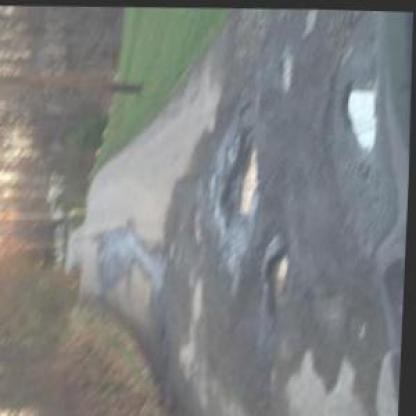pothole: (216, 129, 262, 225), (336, 75, 382, 154), (382, 251, 406, 338), (264, 245, 296, 310), (273, 48, 291, 88)
